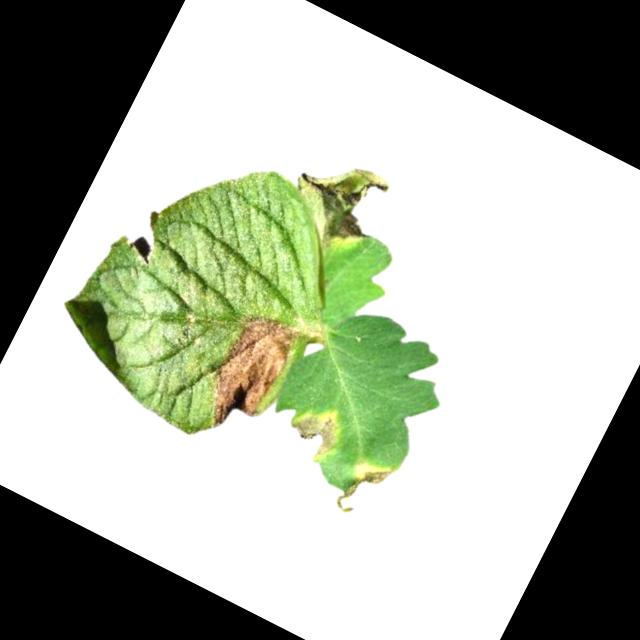Late_blight: (191, 303, 302, 442), (272, 139, 396, 262), (330, 447, 397, 525), (282, 394, 350, 465)
